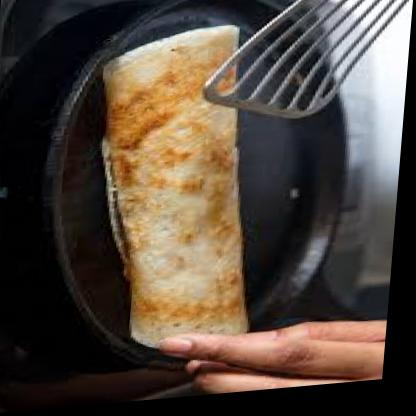dosa: (86, 27, 272, 358)
